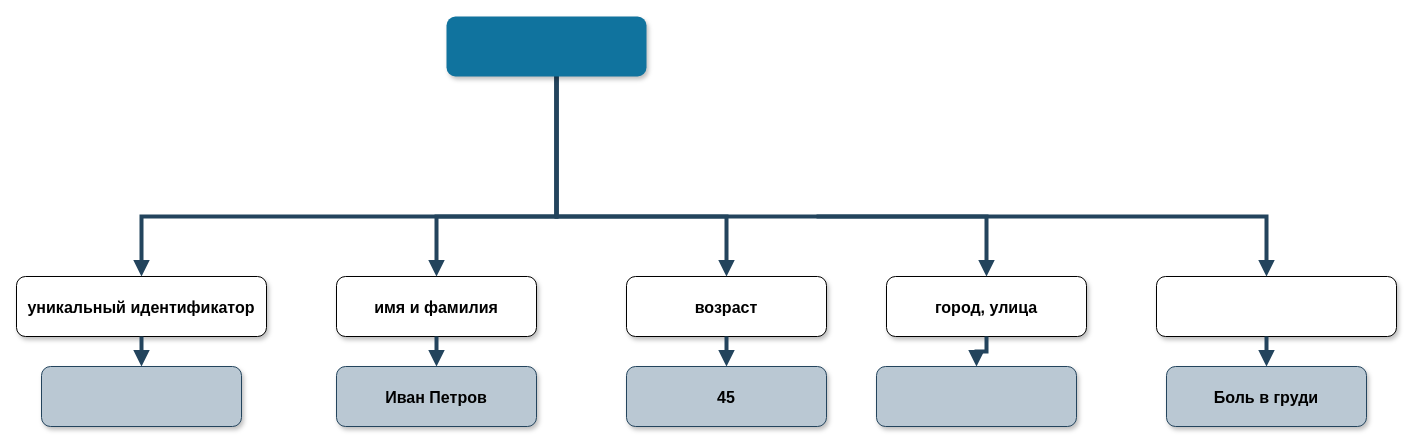
Image size: 1413x443. Some labels were removed from this diagram. Each missing label, with the centre of its shape:
"+7901A" goes at pixel 142 398.
"жалоба при поступлении" goes at pixel 1277 308.
"Москва, Тверская" goes at pixel 977 398.
"Приемный покой" goes at pixel 547 47.
